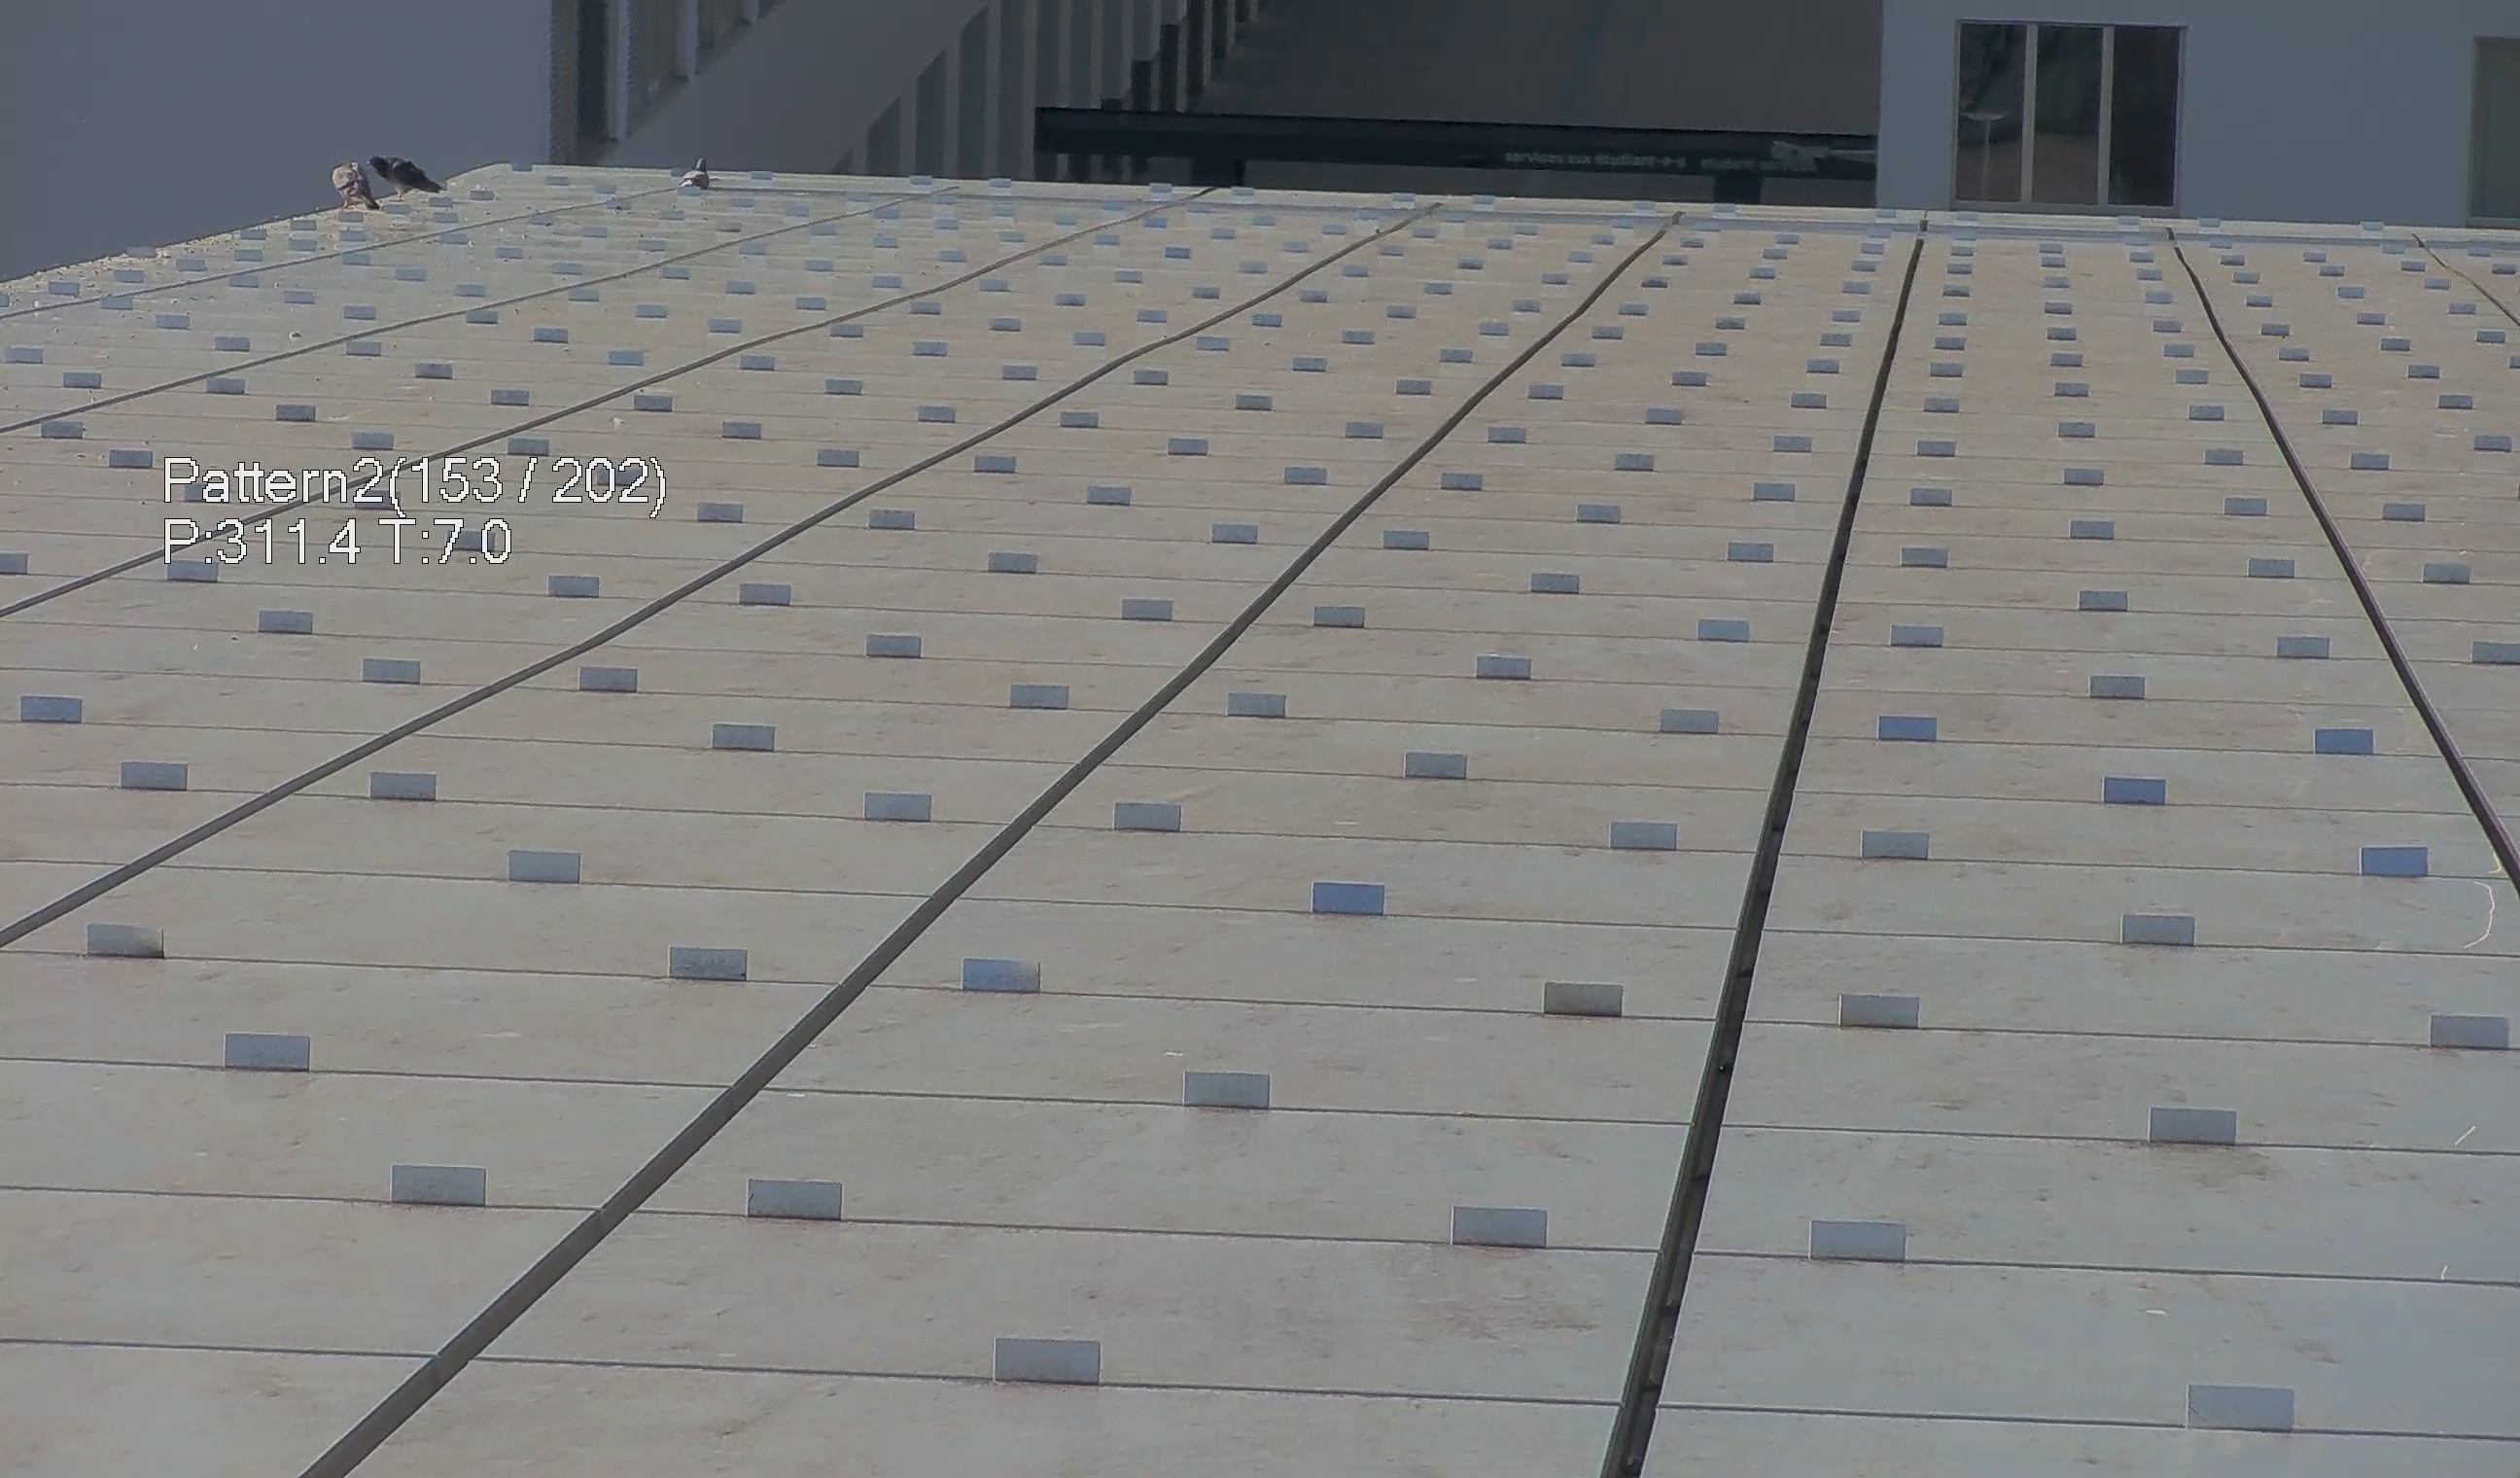Pigeon: (364, 150, 454, 201), (325, 153, 380, 211), (674, 157, 719, 194)
